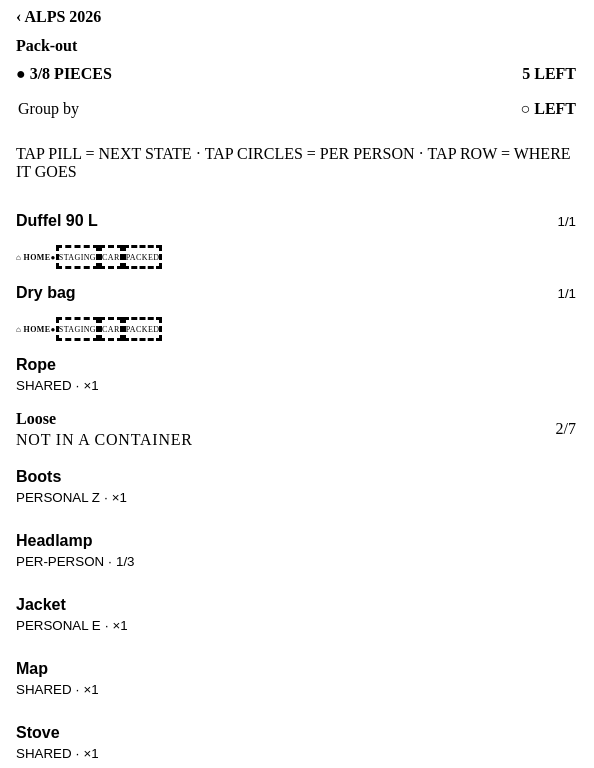
it: the ○ LEFT filter › drops a group header whose whole subtree is packed, nested rows included
Click the button "○ LEFT".
click(548, 109)  # box [520,89,576,129]
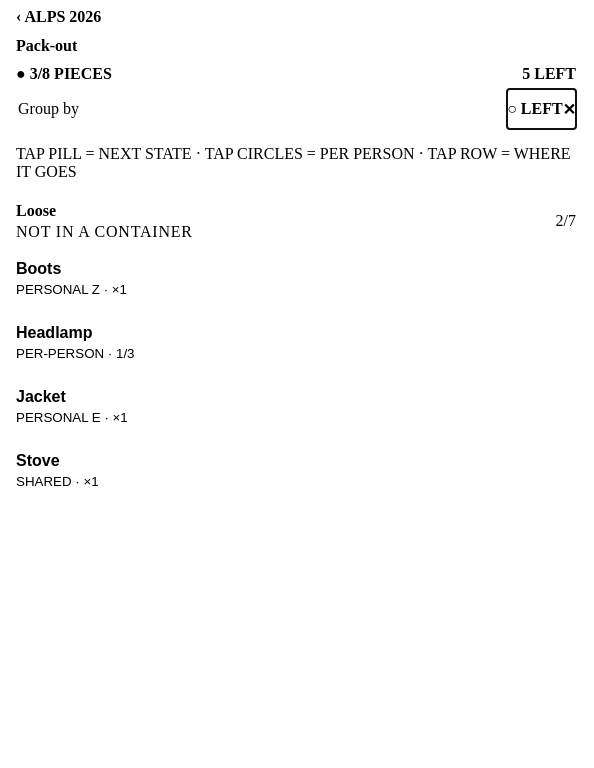
Expected: the button "Dry bag" is gone
Expected: the button "Duffel 90 L" is gone
